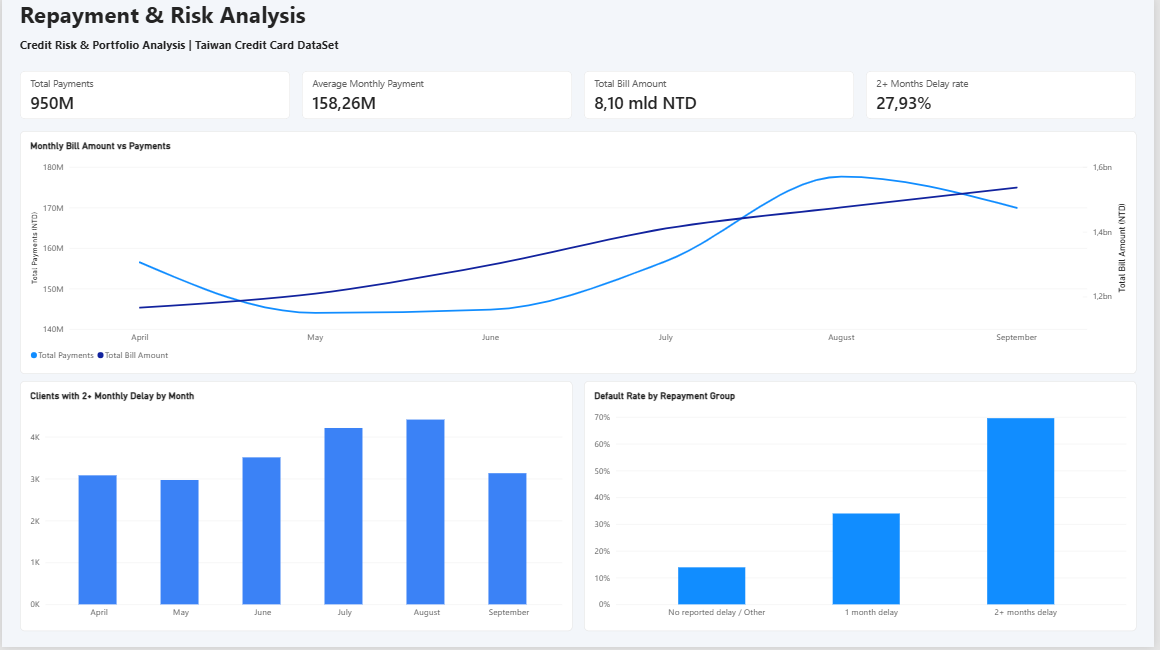

Layout of this report page (visuals, bound fields, positions):
{"tool":"powerbi","page":{"name":"Repayment & Risk Analysis","canvas":[1920,1080],"ordinal":1},"visuals":[{"type":"textbox","box":[30,0,490.5,63.6],"z":0},{"type":"textbox","box":[30,63.6,576.4,29.8],"z":1000},{"type":"cardVisual","fields":{"Data":["monthly_financials.Total Payments"]},"box":[30,120,450,80],"z":2000},{"type":"cardVisual","fields":{"Data":["monthly_financials.Average Monthly Payment"]},"box":[500,120,450,80],"z":3000},{"type":"cardVisual","fields":{"Data":["monthly_financials.Total Bill Amount bn"]},"box":[970,120,450,80],"z":4000},{"type":"lineChart","title":"Monthly Bill Amount vs Payments","fields":{"Y2":["monthly_financials.Total Bill Amount"],"Y":["monthly_financials.Total Payments"],"Category":["DimMonth.Month Name"]},"box":[30.2,219.2,1861,405.2],"z":5000},{"type":"clusteredColumnChart","title":"Clients with 2+ Monthly Delay by Month","fields":{"Y":["repayment_history.Clients with 2+ Monthly Delay"],"Category":["DimMonth.Month Name"]},"box":[30.2,636.5,920.7,417.3],"z":6000},{"type":"cardVisual","fields":{"Data":["repayment_history.2+ Months Delay rate"]},"box":[1440,120,450,80],"z":7000},{"type":"clusteredColumnChart","title":"Default Rate by Repayment Group","fields":{"Y":["repayment_history.Default Rate by Repayment Status"],"Category":["repayment_history.Repayment Group"]},"box":[970.6,636.5,920.7,417.3],"z":8000}]}

Visuals, with their boxes in screenshot pixels (x1, y1, x2, y2), scaled from the page's 1920x1080 canvas onto the 1160x650 screenshot:
textbox: x1=18, y1=0, x2=314, y2=38
textbox: x1=18, y1=38, x2=366, y2=56
cardVisual - monthly_financials.Total Payments: x1=18, y1=72, x2=290, y2=120
cardVisual - monthly_financials.Average Monthly Payment: x1=302, y1=72, x2=574, y2=120
cardVisual - monthly_financials.Total Bill Amount bn: x1=586, y1=72, x2=858, y2=120
"Monthly Bill Amount vs Payments" lineChart: x1=18, y1=132, x2=1143, y2=376
"Clients with 2+ Monthly Delay by Month" clusteredColumnChart: x1=18, y1=383, x2=575, y2=634
cardVisual - repayment_history.2+ Months Delay rate: x1=870, y1=72, x2=1142, y2=120
"Default Rate by Repayment Group" clusteredColumnChart: x1=586, y1=383, x2=1143, y2=634
